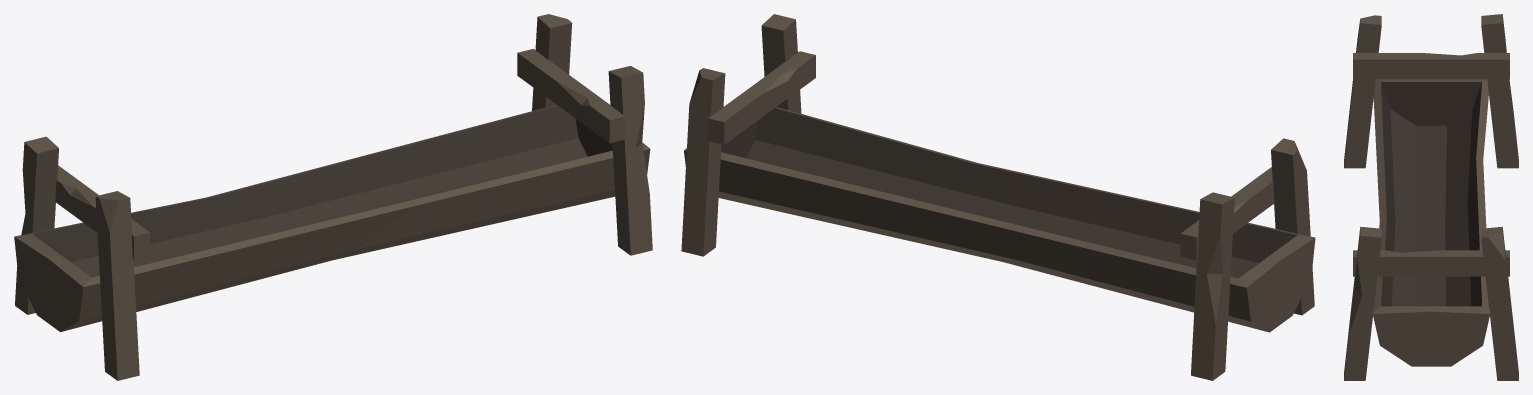
Rendered from SM_Prop_WaterTrough_01.glb.
3 renders of one model, left to right at view 1: azimuth 30°, elevation 25°; view 2: azimuth 150°, elevation 25°; view 3: azimuth 270°, elevation 25°, orthographic. The views are drawn at different scales.
Parts seen in each view (by area): view 1: SM_Prop_WaterTrough_01; view 2: SM_Prop_WaterTrough_01; view 3: SM_Prop_WaterTrough_01.
Boxes of the visible parts, x1,y1,x2,y2 form: SM_Prop_WaterTrough_01: (14,14,652,380); SM_Prop_WaterTrough_01: (681,14,1315,380); SM_Prop_WaterTrough_01: (1344,14,1518,380).
Bounding box in the file's own units: 2.57 × 0.7392 × 0.8066.
1 material, 1 textured.
